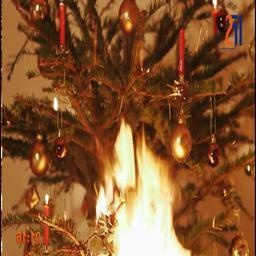fire: (87, 119, 200, 256)
